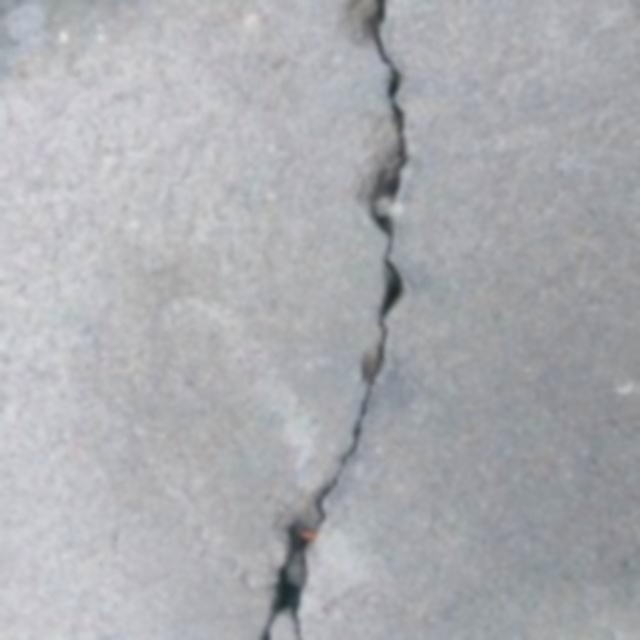SurfaceCrack: (232, 0, 432, 640)
